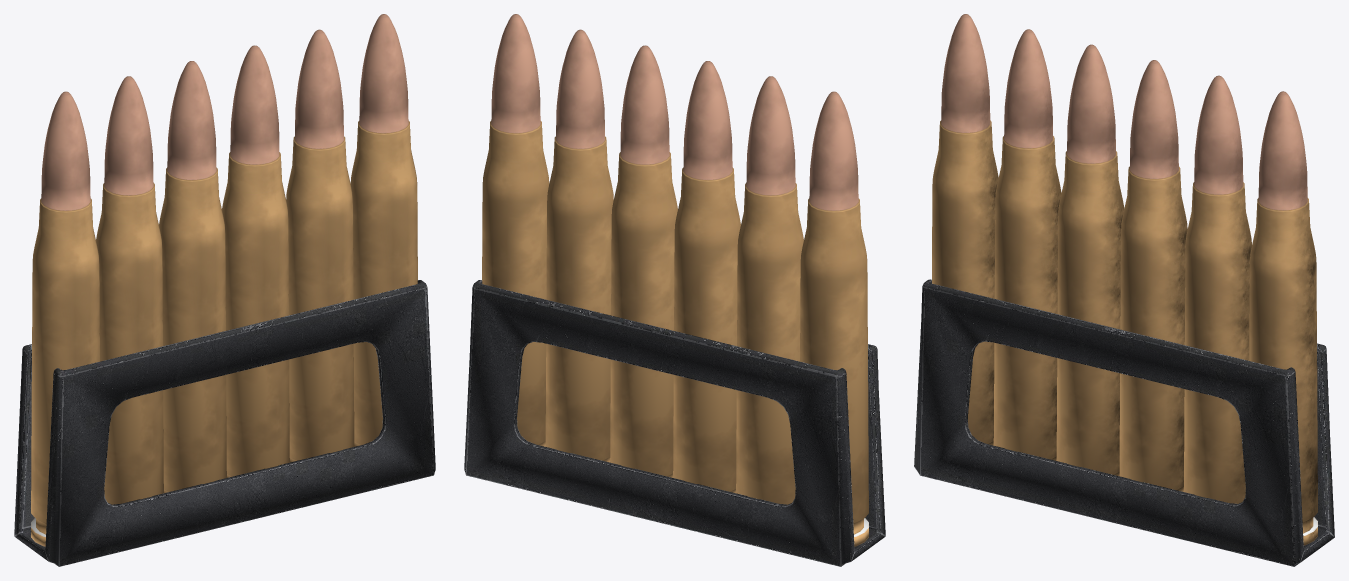
Rendered from bullet set.fbx.
3 renders of one model, left to right at view 1: azimuth 30°, elevation 25°; view 2: azimuth 150°, elevation 25°; view 3: azimuth 330°, elevation 25°, orthographic.
Visible parts, largest first — view 1: clip_02 - Default_0; view 2: clip_02 - Default_0; view 3: clip_02 - Default_0.
Boxes of the visible parts, box(x1,y1,x2,y2) form: clip_02 - Default_0: box(14, 14, 435, 566); clip_02 - Default_0: box(464, 14, 885, 566); clip_02 - Default_0: box(914, 14, 1334, 566).
Size of the model in its own units: 146 by 164 by 25.37.
2 materials, 2 textured.
